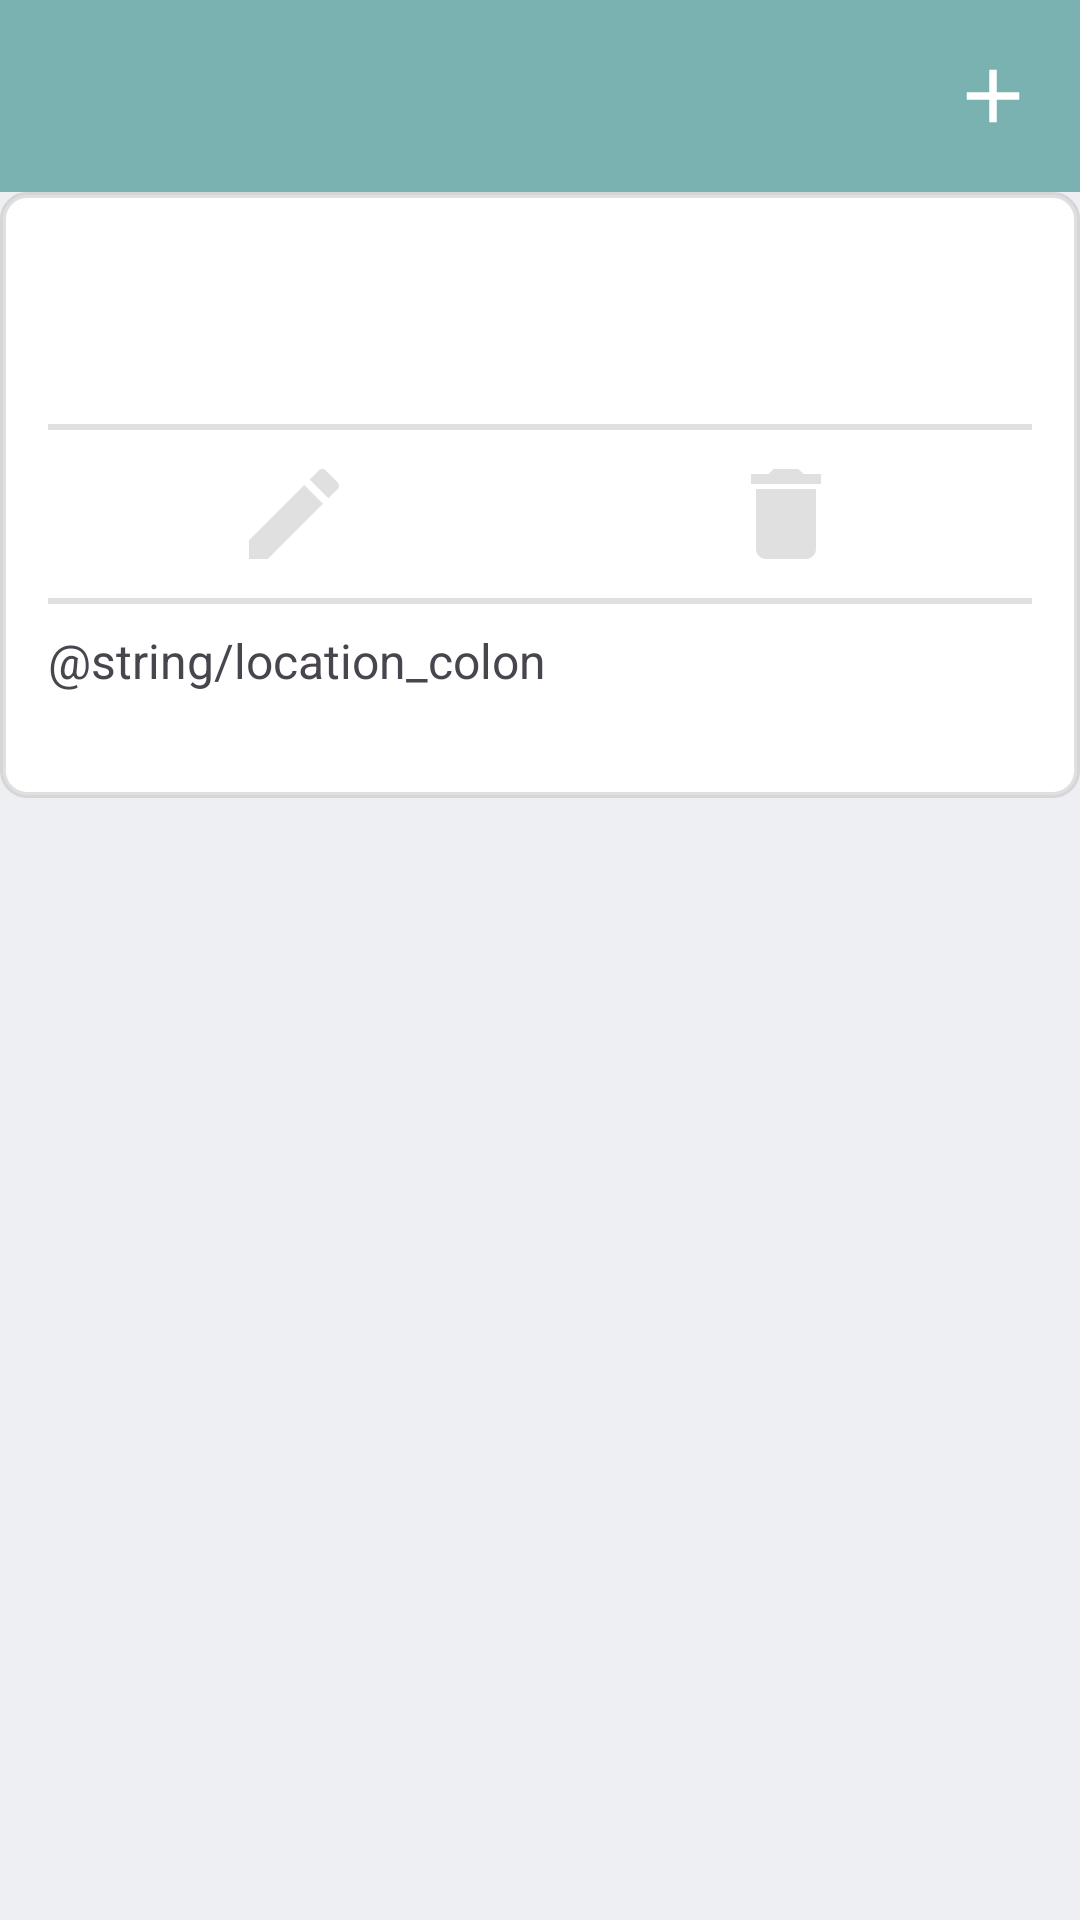

Screen size 1080×1920. Icon name, then its center in pixels as point (x, y):
add: point (993, 96)
edit: point (294, 514)
